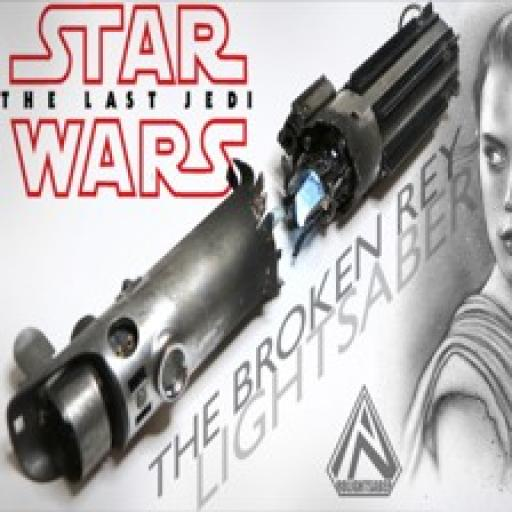lightsaber: (10, 4, 461, 496)
